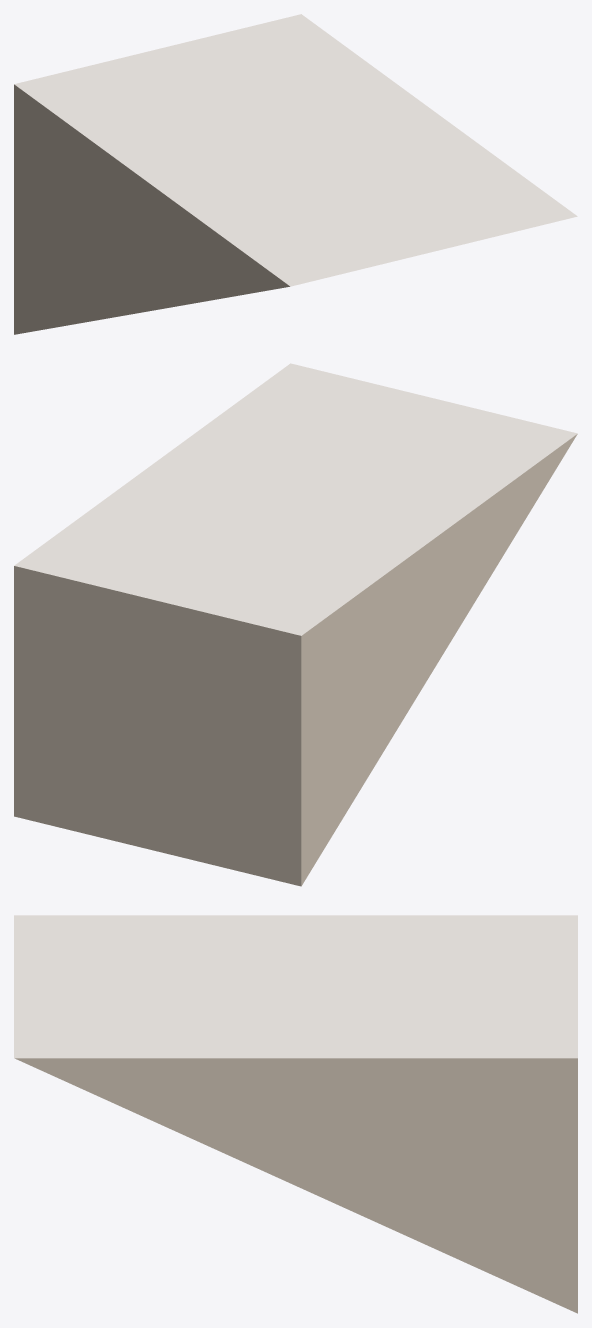
File: Stairs_Under_Ramp_Straight.glb
The picture shows the model from 3 angles, top to bottom: view 1: azimuth 30°, elevation 25°; view 2: azimuth 150°, elevation 25°; view 3: azimuth 270°, elevation 25°; orthographic projection.
Visible parts, largest first — view 1: Stairs_Under_Ramp_Straight; view 2: Stairs_Under_Ramp_Straight; view 3: Stairs_Under_Ramp_Straight.
Part boxes in pixels (x1,y1,x2,y2): Stairs_Under_Ramp_Straight: (14, 14, 577, 334); Stairs_Under_Ramp_Straight: (14, 363, 577, 886); Stairs_Under_Ramp_Straight: (14, 915, 577, 1313).
Size of the model in its own units: 0.54 by 0.45 by 0.9.
